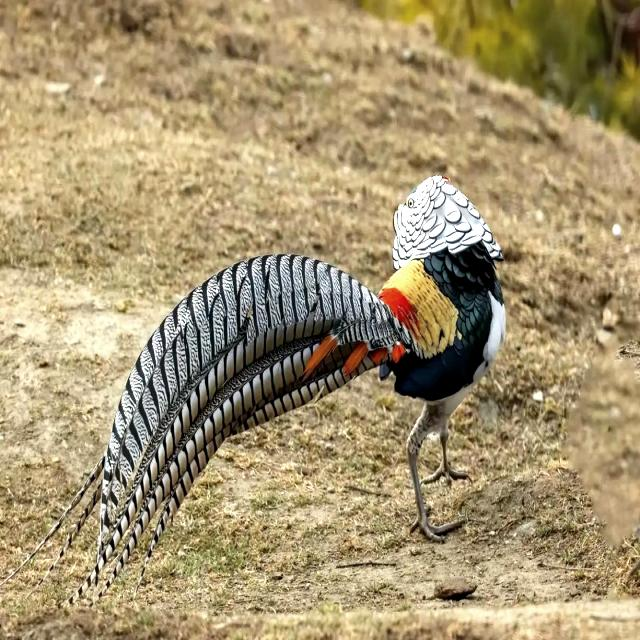Chrysolophus amherstiae: (70, 254, 410, 600)
